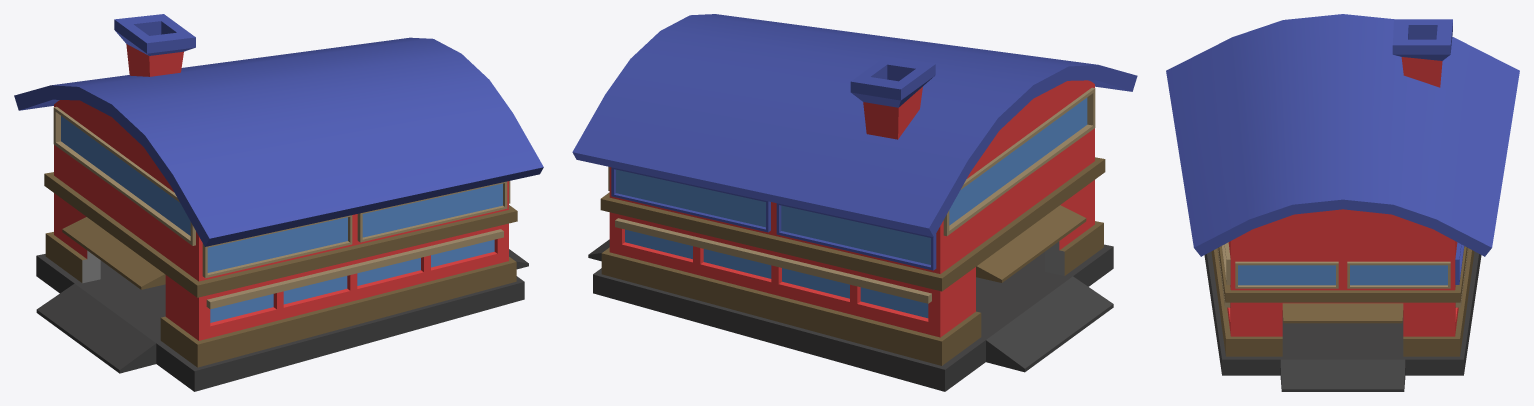
Rendered from Farm.fbx.
3 renders of one model, left to right at view 1: azimuth 30°, elevation 25°; view 2: azimuth 150°, elevation 25°; view 3: azimuth 270°, elevation 25°, orthographic. The views are drawn at different scales.
Visible parts, largest first — view 1: Farm; view 2: Farm; view 3: Farm.
Boxes of the visible parts, x1,y1,x2,y2 form: Farm: (14,14,543,391); Farm: (572,14,1137,391); Farm: (1166,14,1519,391).
Bounding box in the file's own units: 28.6 × 16.76 × 23.23.
